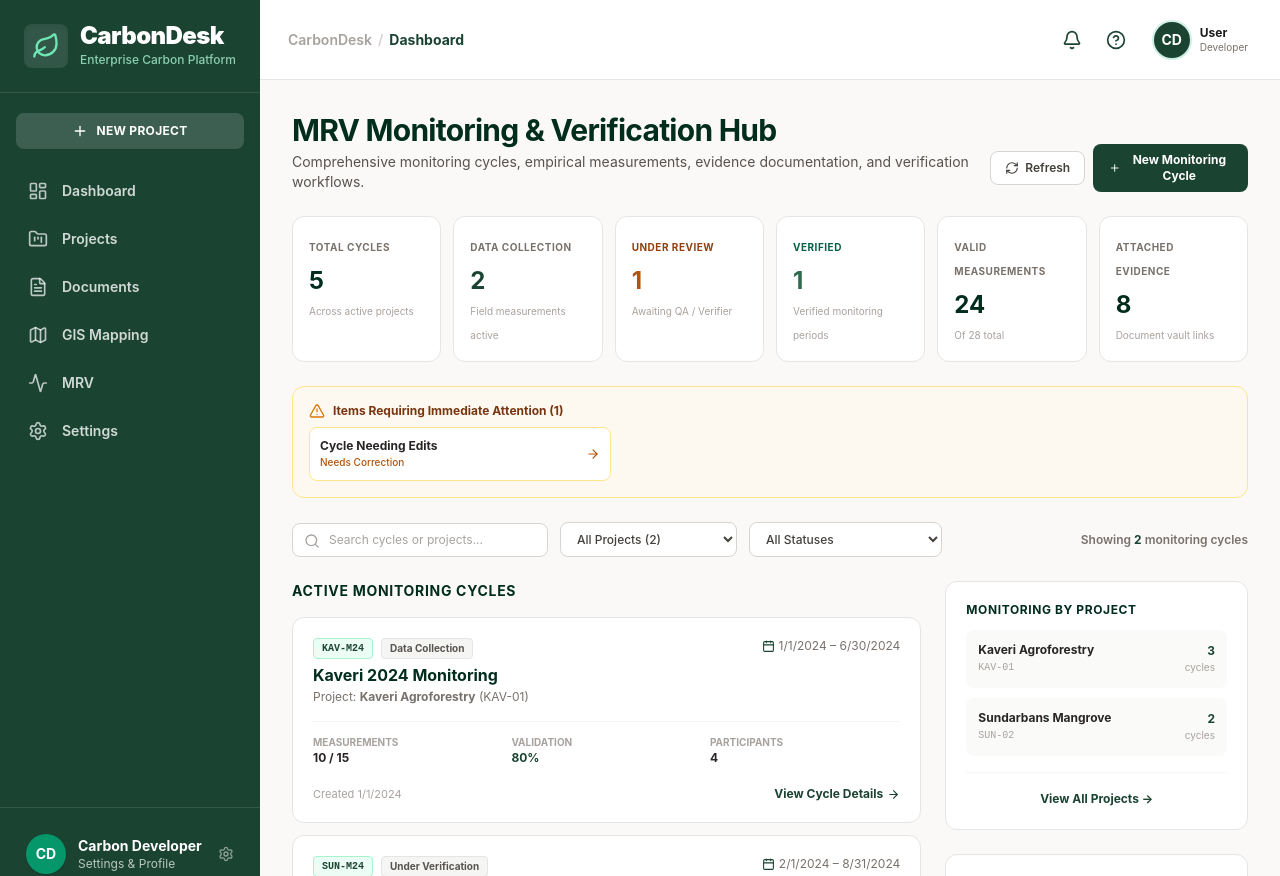
GlobalMRVPage (MRV Dashboard) › filters cycles by search query
Expected: the heading "Kaveri 2024 Monitoring" is shown, [313,663,529,687]
Type "Sundarbans" into the field with placeholder "Search cycles or projects...".
click(420, 540); type("Sundarbans")  # box [292,522,548,556]
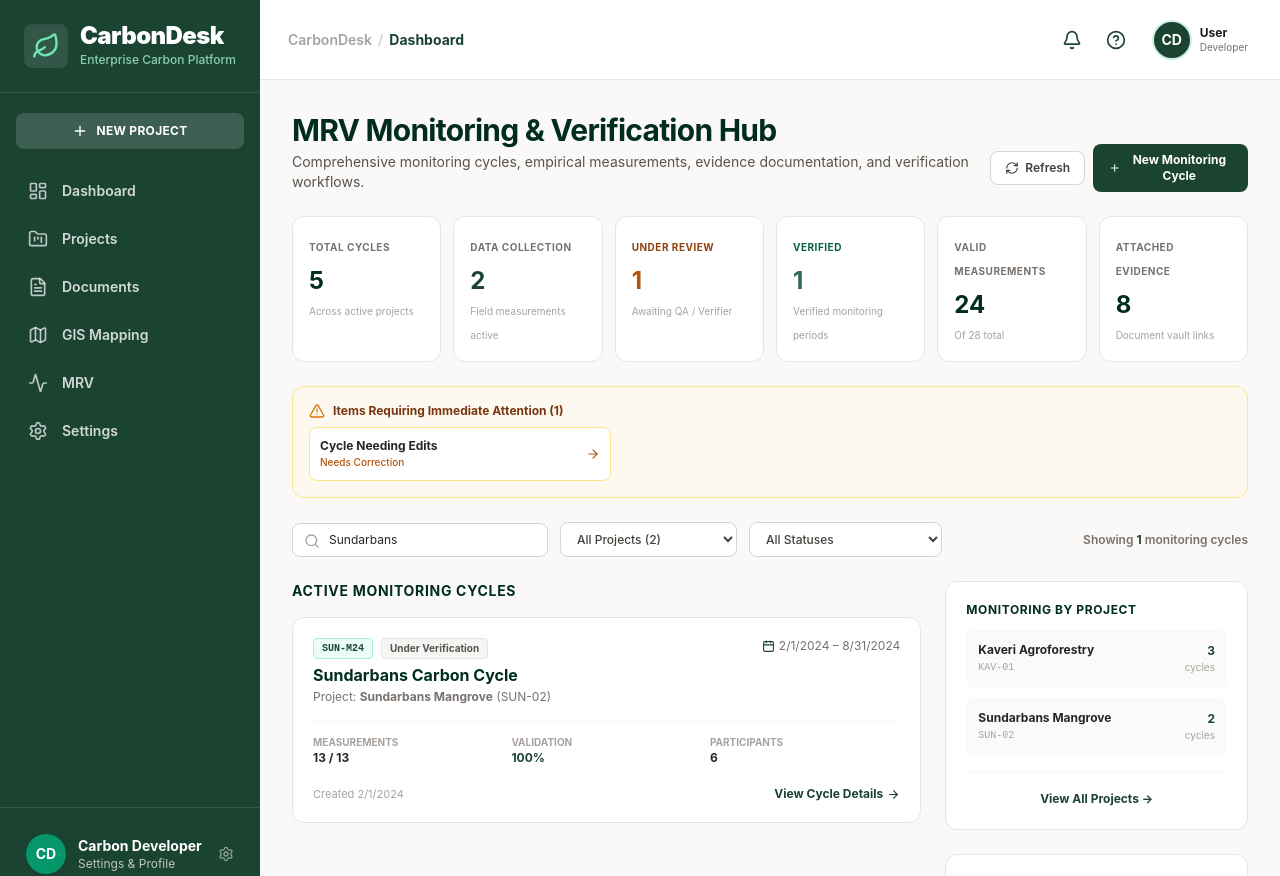
Expected: the heading "Sundarbans Carbon Cycle" is shown, [313,663,551,687]
Now the heading "Kaveri 2024 Monitoring" is gone
